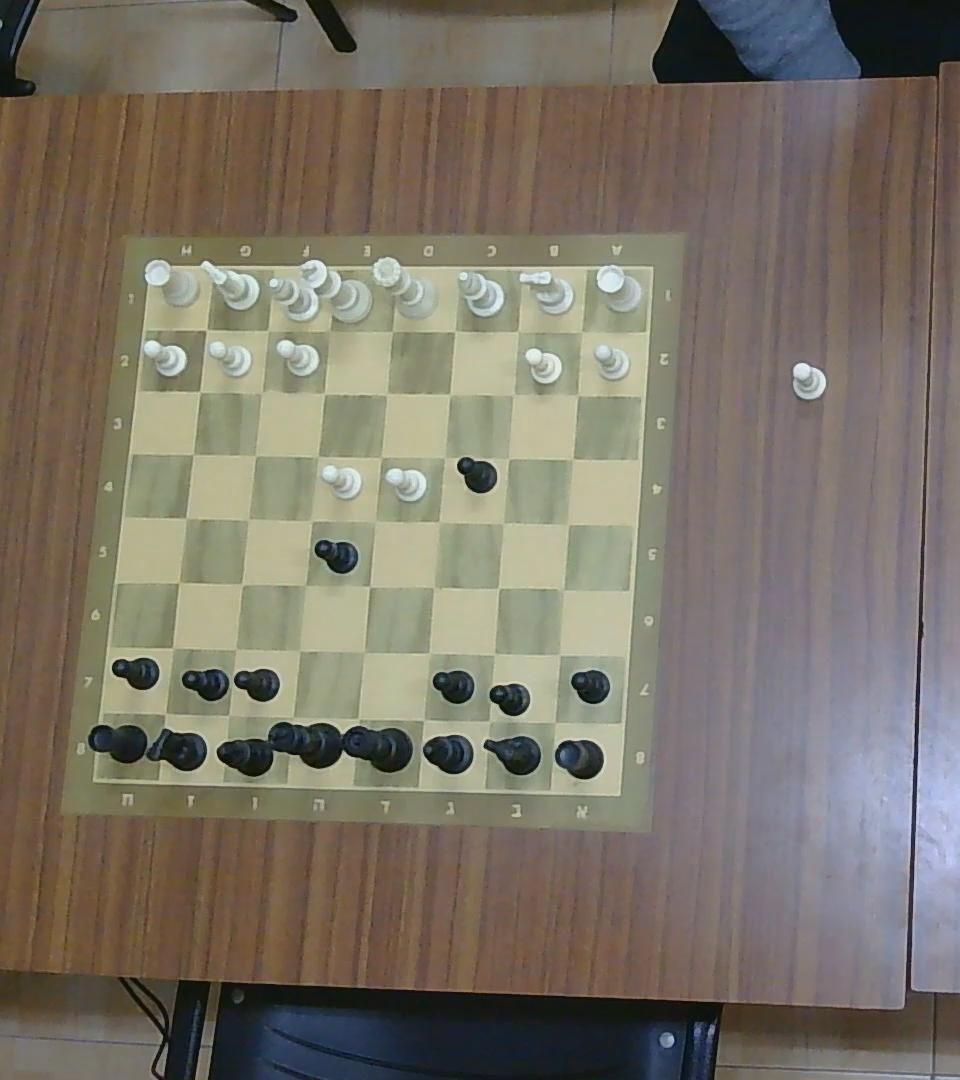xcorner: (278, 702, 305, 731), (346, 707, 370, 729), (155, 703, 176, 723), (543, 712, 565, 731), (364, 511, 383, 531), (290, 640, 309, 659), (320, 321, 339, 340), (177, 508, 195, 527), (170, 572, 188, 591), (440, 384, 459, 402), (414, 711, 433, 729), (480, 711, 499, 729), (435, 448, 453, 466), (371, 448, 389, 466), (296, 576, 314, 594), (226, 640, 244, 658), (429, 512, 447, 530), (219, 706, 237, 724), (184, 444, 201, 463), (505, 385, 522, 404), (165, 638, 182, 657), (377, 384, 394, 402), (303, 512, 320, 530), (309, 446, 326, 464), (355, 644, 373, 661), (484, 646, 502, 663), (555, 580, 573, 597), (500, 450, 517, 467), (316, 384, 333, 401), (446, 322, 463, 339), (560, 514, 577, 531), (495, 514, 512, 531), (424, 578, 441, 595), (241, 511, 257, 528), (248, 447, 264, 464), (362, 578, 378, 595), (573, 324, 590, 340), (565, 450, 581, 467), (260, 322, 276, 339), (383, 322, 399, 339), (254, 384, 270, 401), (490, 580, 506, 597), (198, 320, 213, 337), (233, 576, 250, 591), (569, 387, 586, 402), (421, 645, 438, 660), (550, 647, 567, 662), (511, 323, 527, 338), (192, 383, 206, 399)
